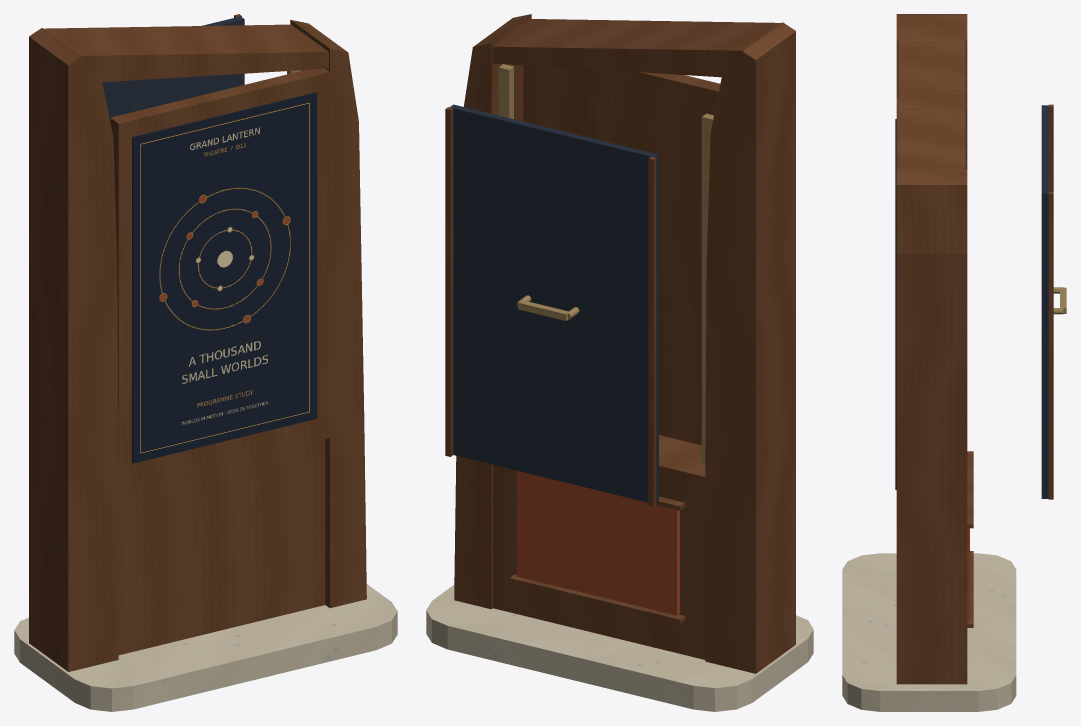
File: AST-CUL-001_access.glb
The picture shows the model from 3 angles, left to right: view 1: azimuth 30°, elevation 25°; view 2: azimuth 150°, elevation 25°; view 3: azimuth 270°, elevation 25°; orthographic projection. The views are drawn at different scales.
Parts seen in each view (by area): view 1: AST-CUL-001_access__AST-CUL-001__warm_walnut, AST-CUL-001_access__AST-CUL-001__programme_original, AST-CUL-001_access__AST-CUL-001__warm_stone, AST-CUL-001_access__REAR_SERVICE_PANEL__auditorium_navy_fibr; view 2: AST-CUL-001_access__AST-CUL-001__warm_walnut, AST-CUL-001_access__REAR_SERVICE_PANEL__auditorium_navy_fibr, AST-CUL-001_access__AST-CUL-001__warm_stone, AST-CUL-001_access__AST-CUL-001__auditorium_amber_velvet, AST-CUL-001_access__REAR_SERVICE_PANEL__warm_walnut, AST-CUL-001_access__AST-CUL-001__champagne_metal, AST-CUL-001_access__REAR_SERVICE_PANEL__champagne_metal; view 3: AST-CUL-001_access__AST-CUL-001__warm_walnut, AST-CUL-001_access__AST-CUL-001__warm_stone, AST-CUL-001_access__REAR_SERVICE_PANEL__auditorium_navy_fibr, AST-CUL-001_access__REAR_SERVICE_PANEL__warm_walnut, AST-CUL-001_access__AST-CUL-001__programme_original.
Part boxes in pixels (x1,y1,x2,y2): AST-CUL-001_access__AST-CUL-001__warm_walnut: (29, 19, 366, 671); AST-CUL-001_access__AST-CUL-001__programme_original: (132, 92, 317, 463); AST-CUL-001_access__AST-CUL-001__warm_stone: (14, 584, 397, 711); AST-CUL-001_access__REAR_SERVICE_PANEL__auditorium_navy_fibr: (102, 16, 244, 120); AST-CUL-001_access__AST-CUL-001__warm_walnut: (454, 14, 795, 673); AST-CUL-001_access__REAR_SERVICE_PANEL__auditorium_navy_fibr: (449, 104, 658, 502); AST-CUL-001_access__AST-CUL-001__warm_stone: (426, 585, 813, 711); AST-CUL-001_access__AST-CUL-001__auditorium_amber_velvet: (516, 471, 679, 615); AST-CUL-001_access__REAR_SERVICE_PANEL__warm_walnut: (445, 107, 656, 506); AST-CUL-001_access__AST-CUL-001__champagne_metal: (498, 64, 713, 464); AST-CUL-001_access__REAR_SERVICE_PANEL__champagne_metal: (517, 295, 579, 320); AST-CUL-001_access__AST-CUL-001__warm_walnut: (896, 14, 973, 684); AST-CUL-001_access__AST-CUL-001__warm_stone: (842, 553, 1016, 711); AST-CUL-001_access__REAR_SERVICE_PANEL__auditorium_navy_fibr: (1041, 105, 1048, 498); AST-CUL-001_access__REAR_SERVICE_PANEL__warm_walnut: (1048, 104, 1053, 499); AST-CUL-001_access__AST-CUL-001__programme_original: (895, 119, 896, 489).
Size of the model in its own units: 1.2 by 2.3 by 0.825.
Materials: 6 (6 with a texture image).
